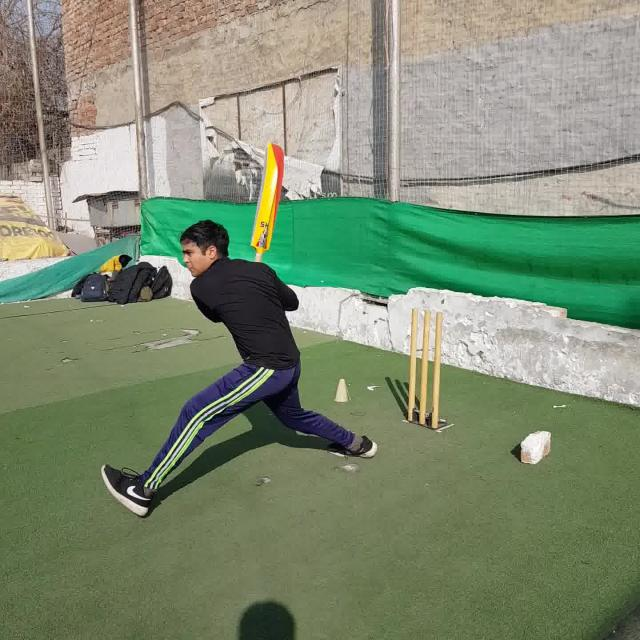bat: (251, 142, 285, 263)
